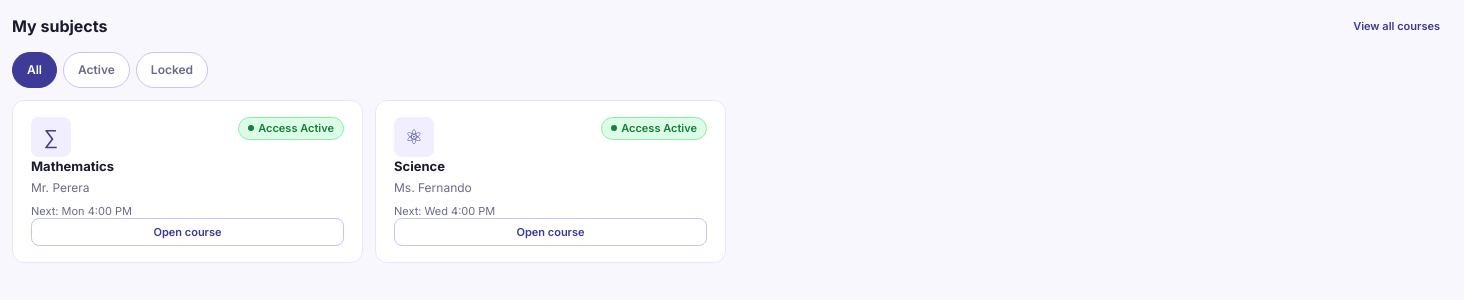
Test: StudentDashboardPreview › shows a filter-specific empty message (not the onboarding copy) when a filter hides every subject
Click the button "Locked" at coordinates (172, 70), box [136,52,208,88]
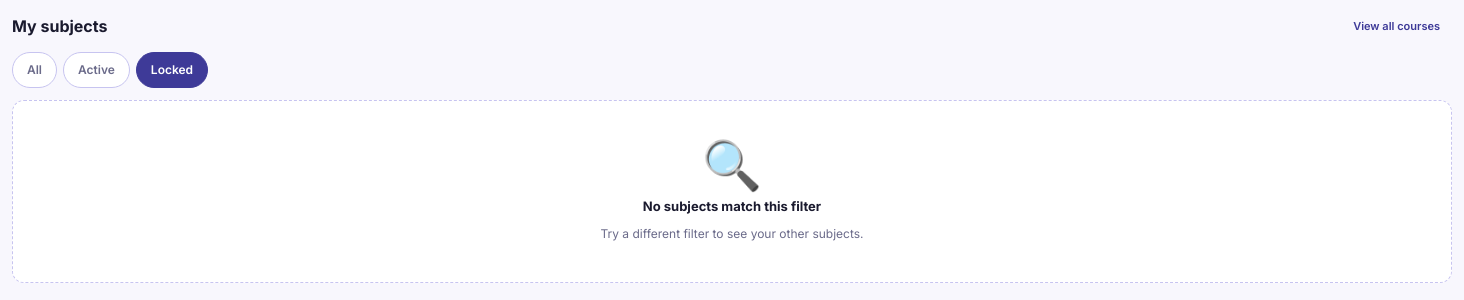
Now the text "No subjects match this filter" is shown, box [643,197,821,216]
